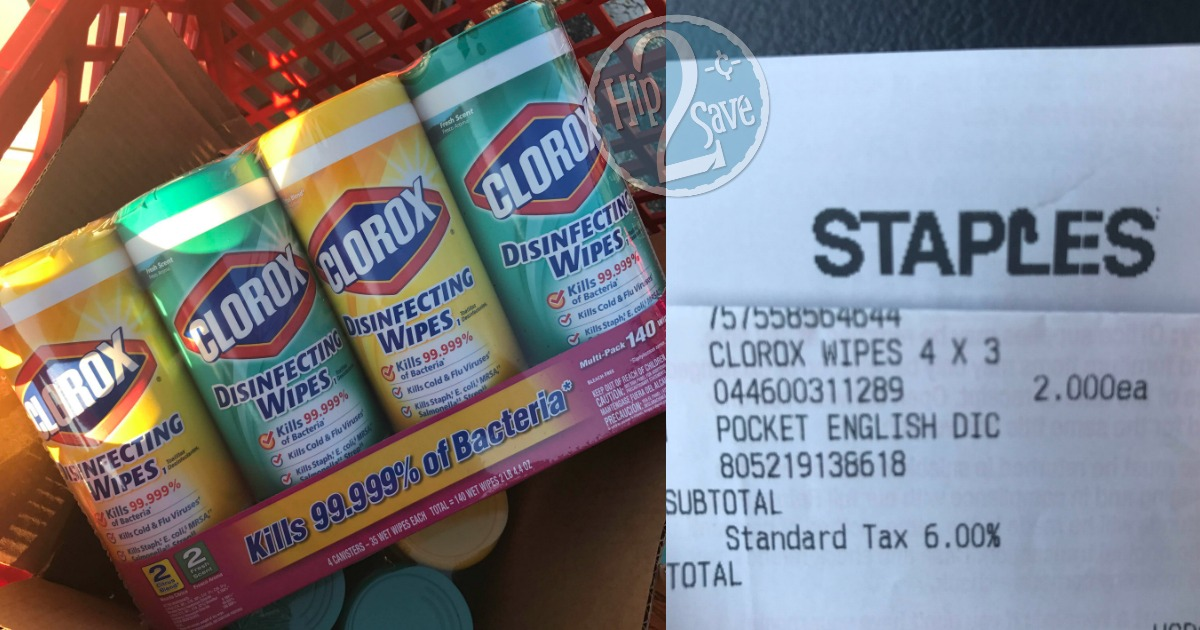Wipes: (246, 65, 553, 468), (107, 143, 404, 557), (389, 5, 665, 409), (1, 209, 265, 622)
